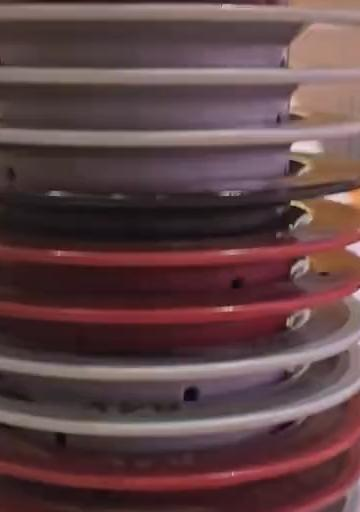Janback: (0, 190, 344, 219)
Janred: (0, 274, 325, 334), (0, 230, 360, 278), (0, 451, 327, 498), (0, 497, 297, 512)
Janwhite: (0, 63, 360, 111), (0, 11, 360, 55), (0, 123, 359, 164), (0, 389, 310, 429), (0, 345, 360, 379)
